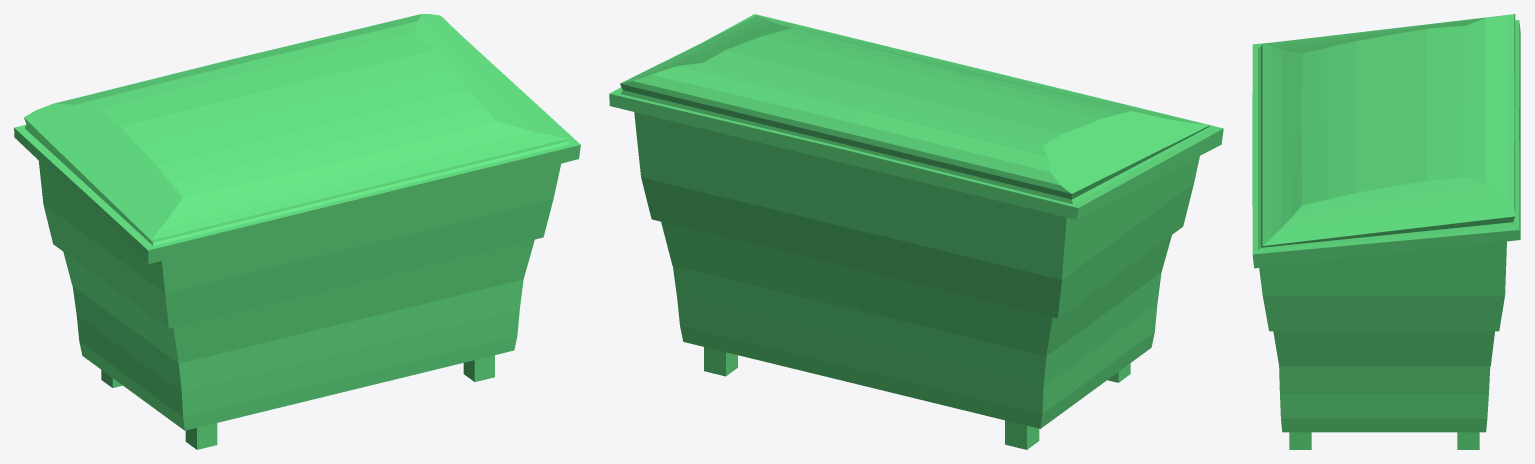
Rendered from Dumpster03.fbx.
The picture shows the model from 3 angles, left to right: view 1: azimuth 30°, elevation 25°; view 2: azimuth 150°, elevation 25°; view 3: azimuth 270°, elevation 25°; orthographic projection. The views are drawn at different scales.
Visible parts, largest first — view 1: Cube; view 2: Cube; view 3: Cube.
Part boxes in pixels (x1,y1,x2,y2): Cube: (14, 14, 580, 449); Cube: (609, 14, 1223, 449); Cube: (1252, 14, 1520, 449).
Bounding box in the file's own units: 653 × 402 × 352.
